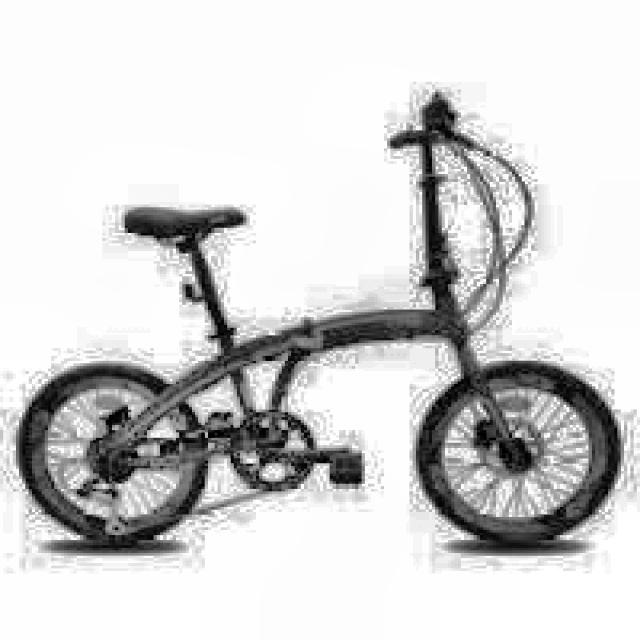motorcycle: (5, 93, 640, 566)
